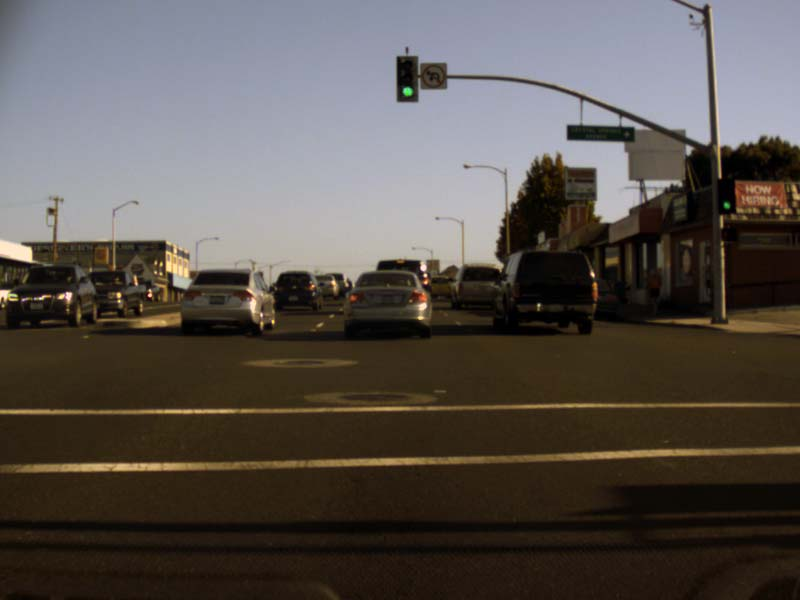Green: (397, 55, 418, 101), (716, 180, 735, 213)
